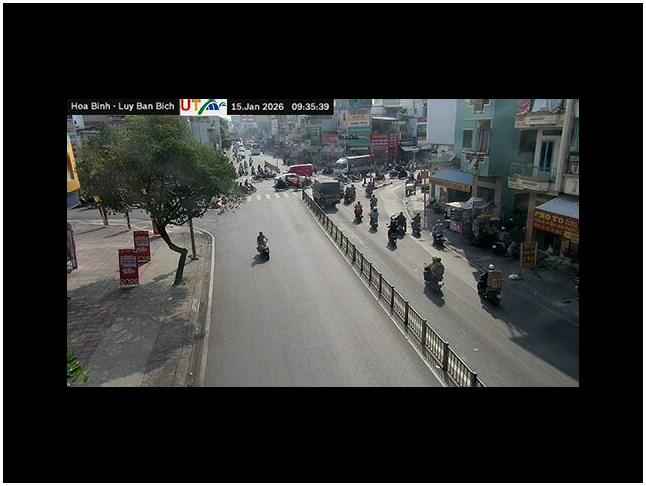car: (273, 174, 301, 191)
